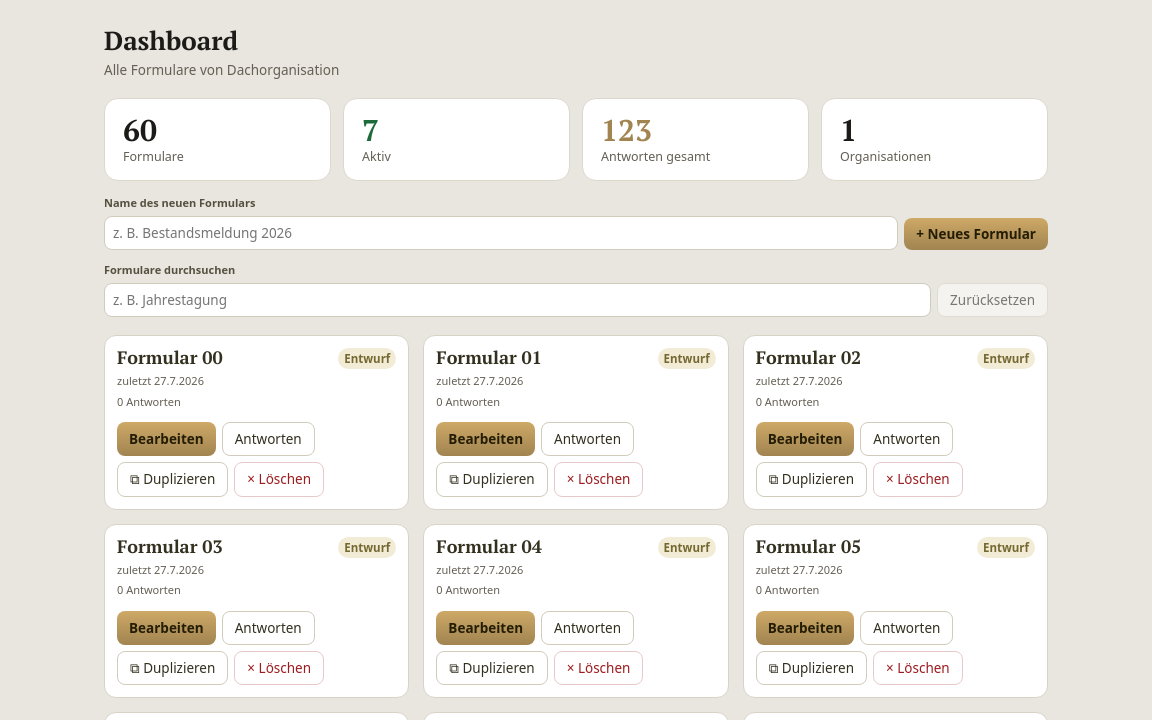
it: DashboardView › page, search and counter › says how many matched, and offers a way back to everything
The width and height of the screenshot is (1152, 720).
expect the heading "Formular 00" is shown: met, box [117,346,223,369]
In the search field labelled "Formulare durchsuchen": (518, 300) [104,283,931,317], type "Sterbefallmeldung"
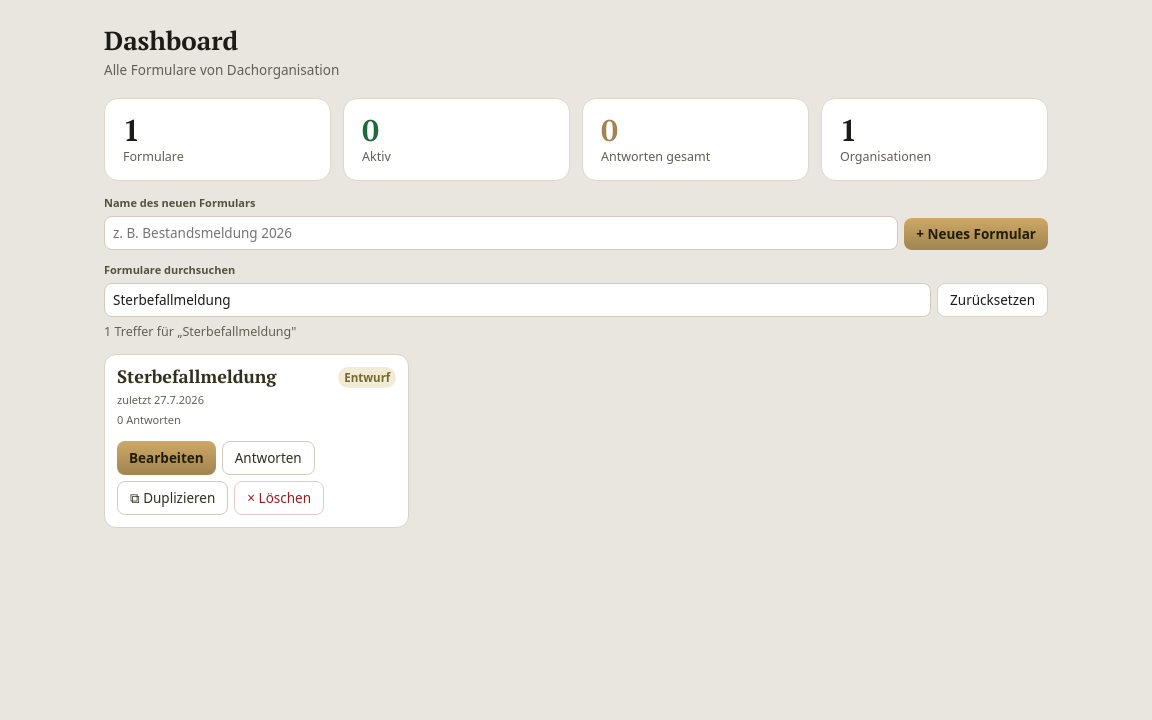
expect the text "1 Treffer für „Sterbefallmeldung\"" is shown: met, box [104,323,296,340]
Click the button with aria-label "Suche zurücksetzen": click(993, 300) [937,283,1048,317]
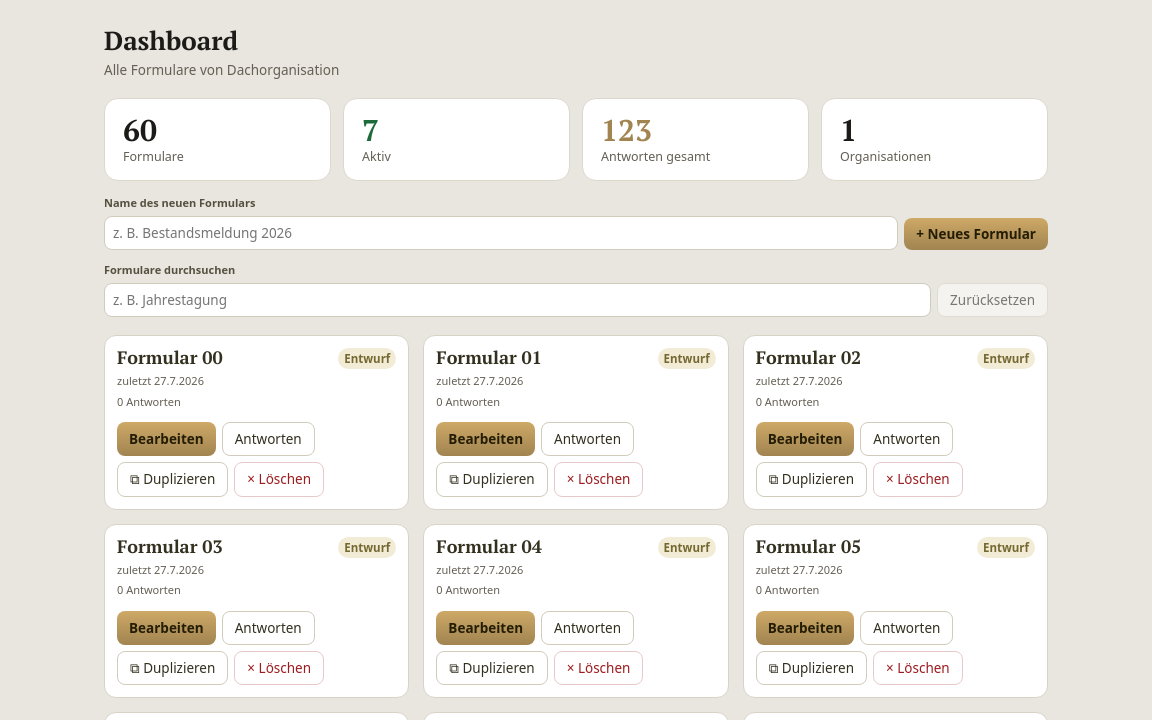
expect the heading "Formular 00" is shown: met, box [117,346,223,369]
